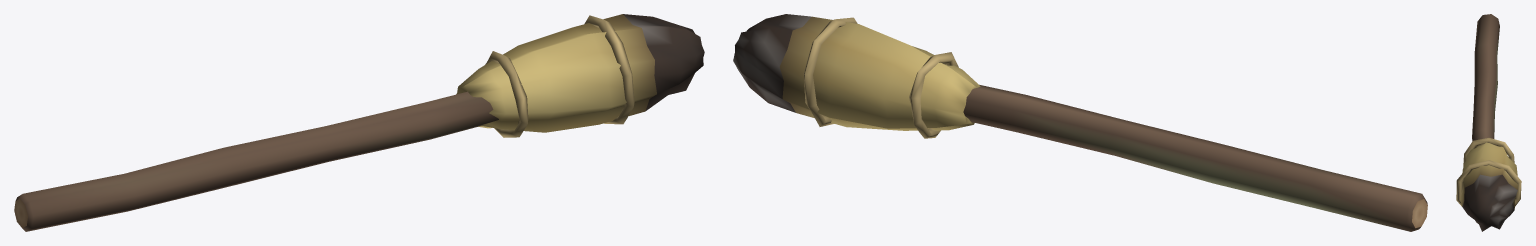
Rendered from torch.glb.
3 views of the same model, side by side, from view 1: azimuth 30°, elevation 25°; view 2: azimuth 150°, elevation 25°; view 3: azimuth 270°, elevation 25° (orthographic). The views are drawn at different scales.
Visible parts, largest first — view 1: torch; view 2: torch; view 3: torch.
Boxes of the visible parts, x1,y1,x2,y2 form: torch: [14, 14, 704, 231]; torch: [733, 14, 1427, 231]; torch: [1456, 14, 1521, 231].
Size of the model in its own units: 0.5622 by 0.0823 by 0.0795.
